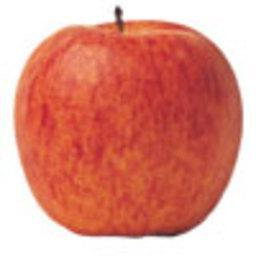apple: (13, 18, 243, 242)
